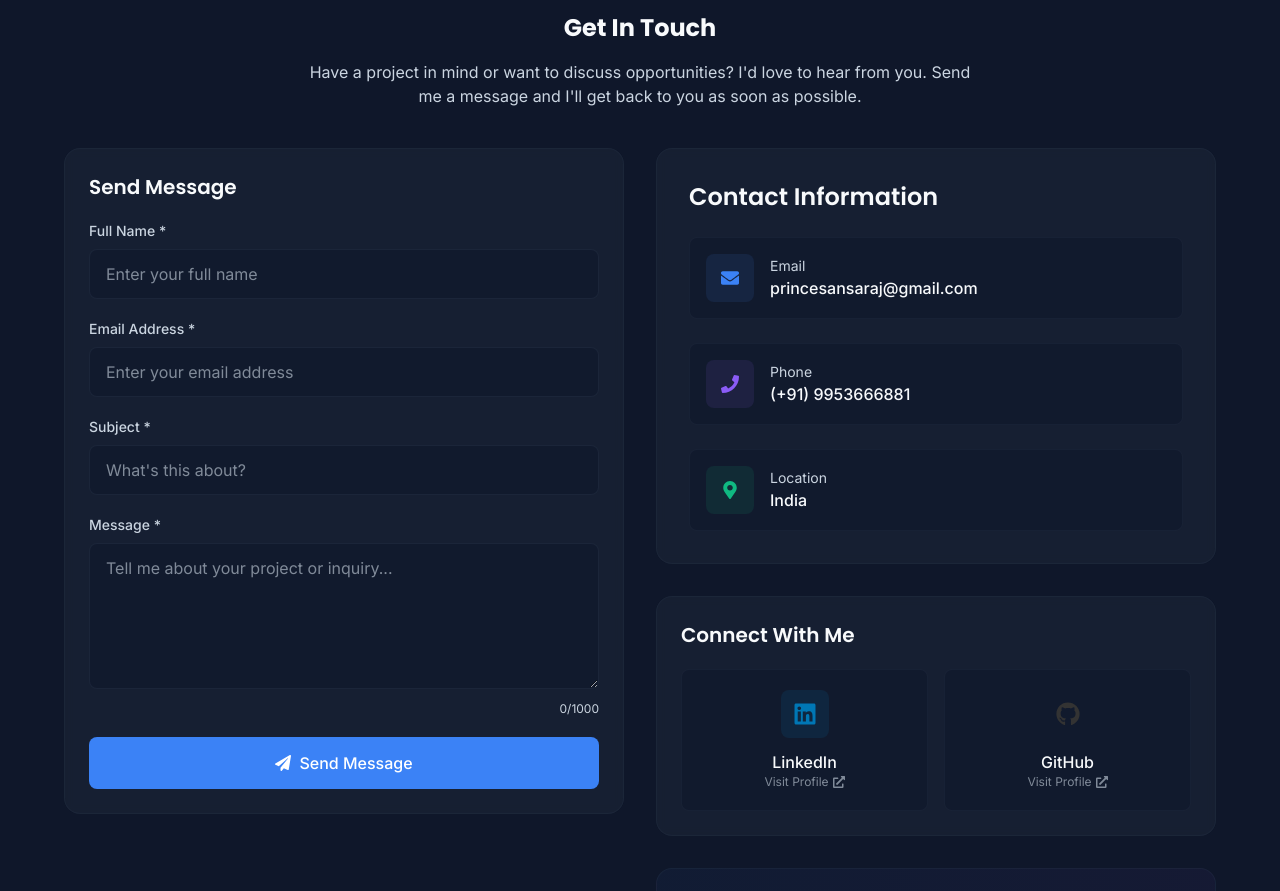
Contact Component › validates email format
The image size is (1280, 891).
Type "invalid-email" into the field labelled "Email Address *".
click(344, 372); type("invalid-email")  # box [89,347,599,397]
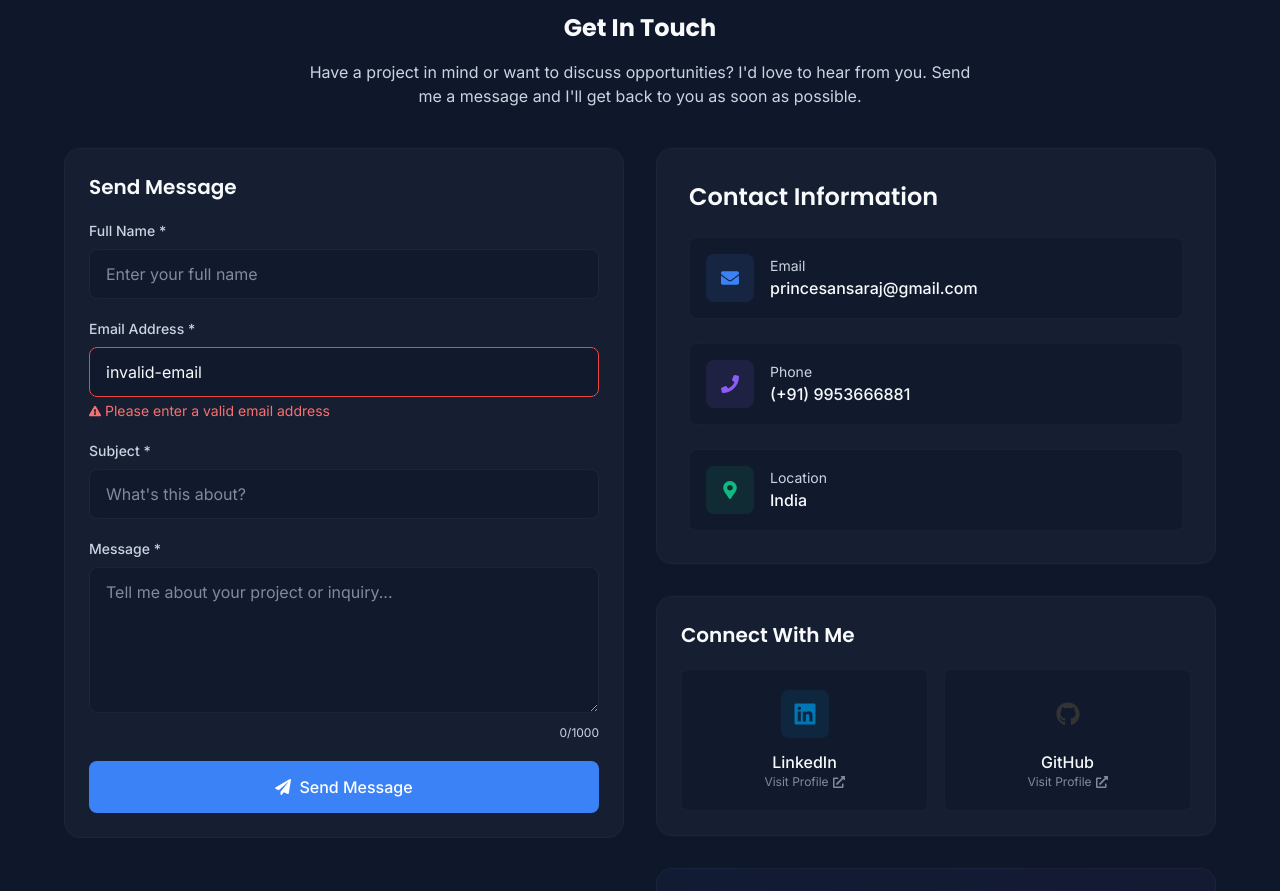
Result: the text "Please enter a valid email address" is shown at [105,401,330,421]
